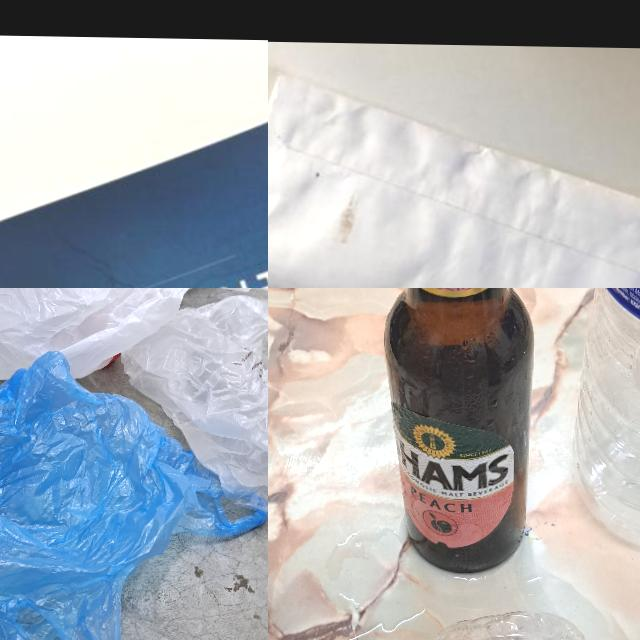garrafa de vidro: (379, 288, 538, 574)
garrafa plástica: (569, 288, 640, 555), (433, 609, 594, 640)
papel: (268, 72, 640, 288), (0, 63, 268, 288)
sacola plástica: (0, 348, 268, 640), (115, 292, 268, 560), (0, 288, 195, 380)
